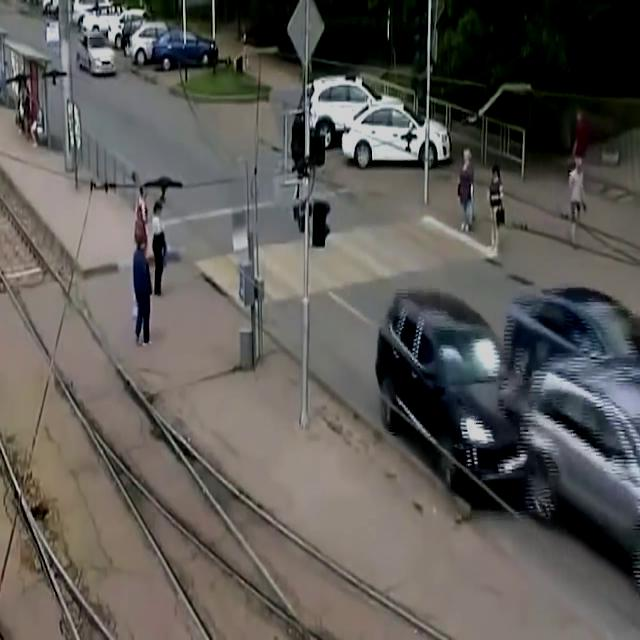accident: (374, 290, 640, 572)
non-accident: (296, 77, 450, 166), (72, 3, 220, 72)
